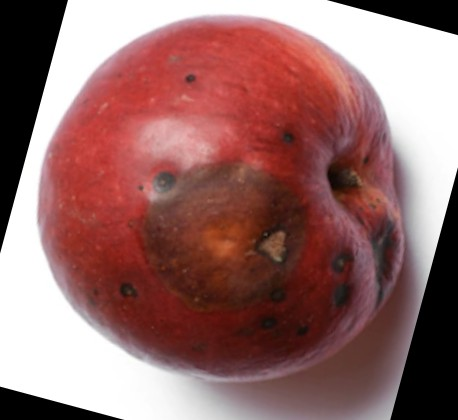rotten_apple: (37, 16, 405, 379)
